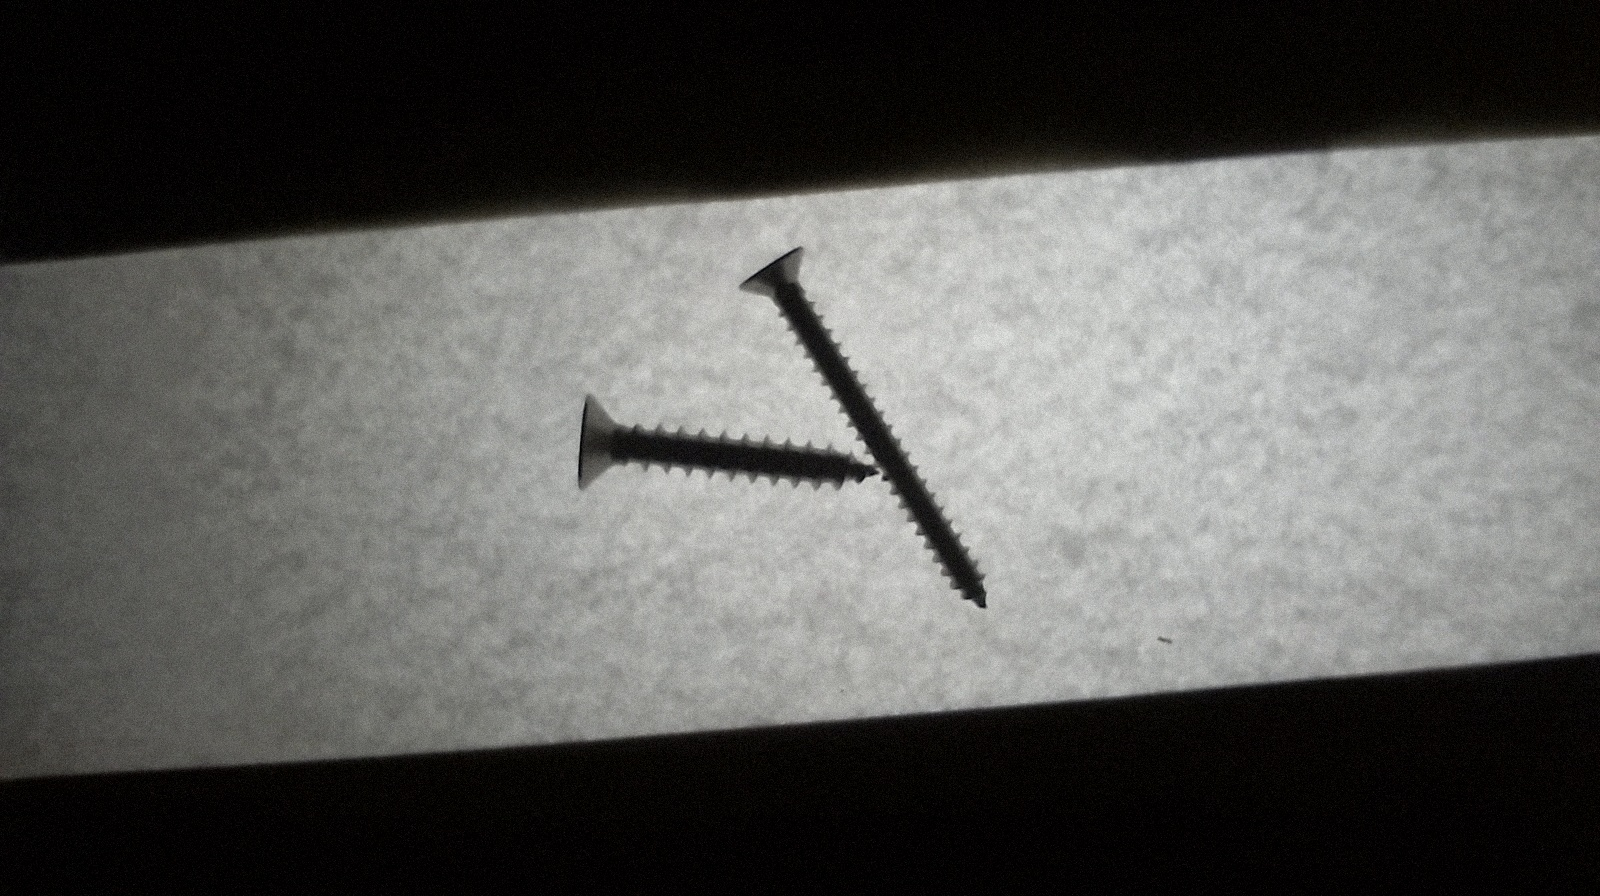S001: (566, 392, 875, 502)
S002: (734, 244, 997, 616)
